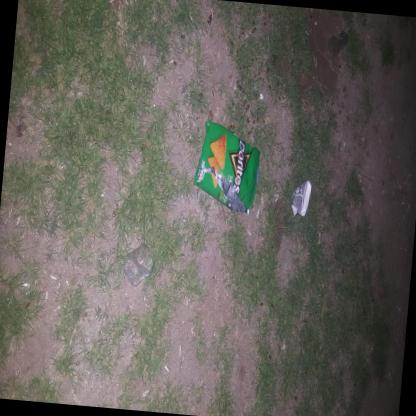Paper: (291, 181, 310, 217)
Plastic: (193, 122, 259, 216), (122, 243, 153, 287)
